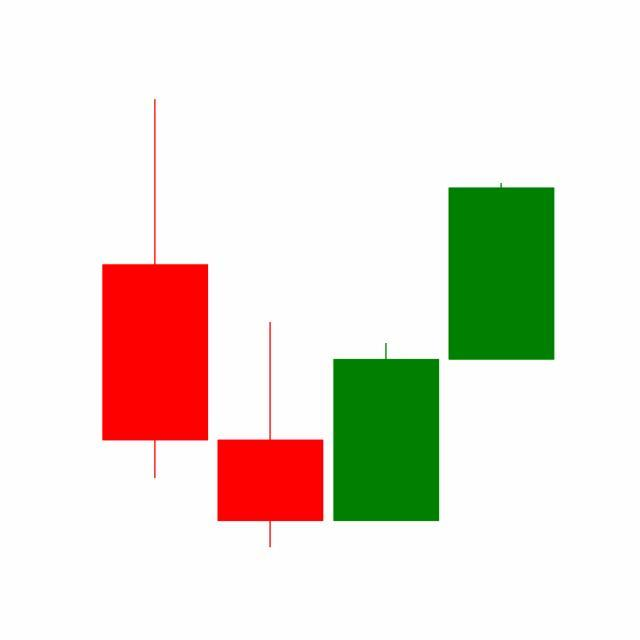Marubozu: (444, 181, 560, 362)
